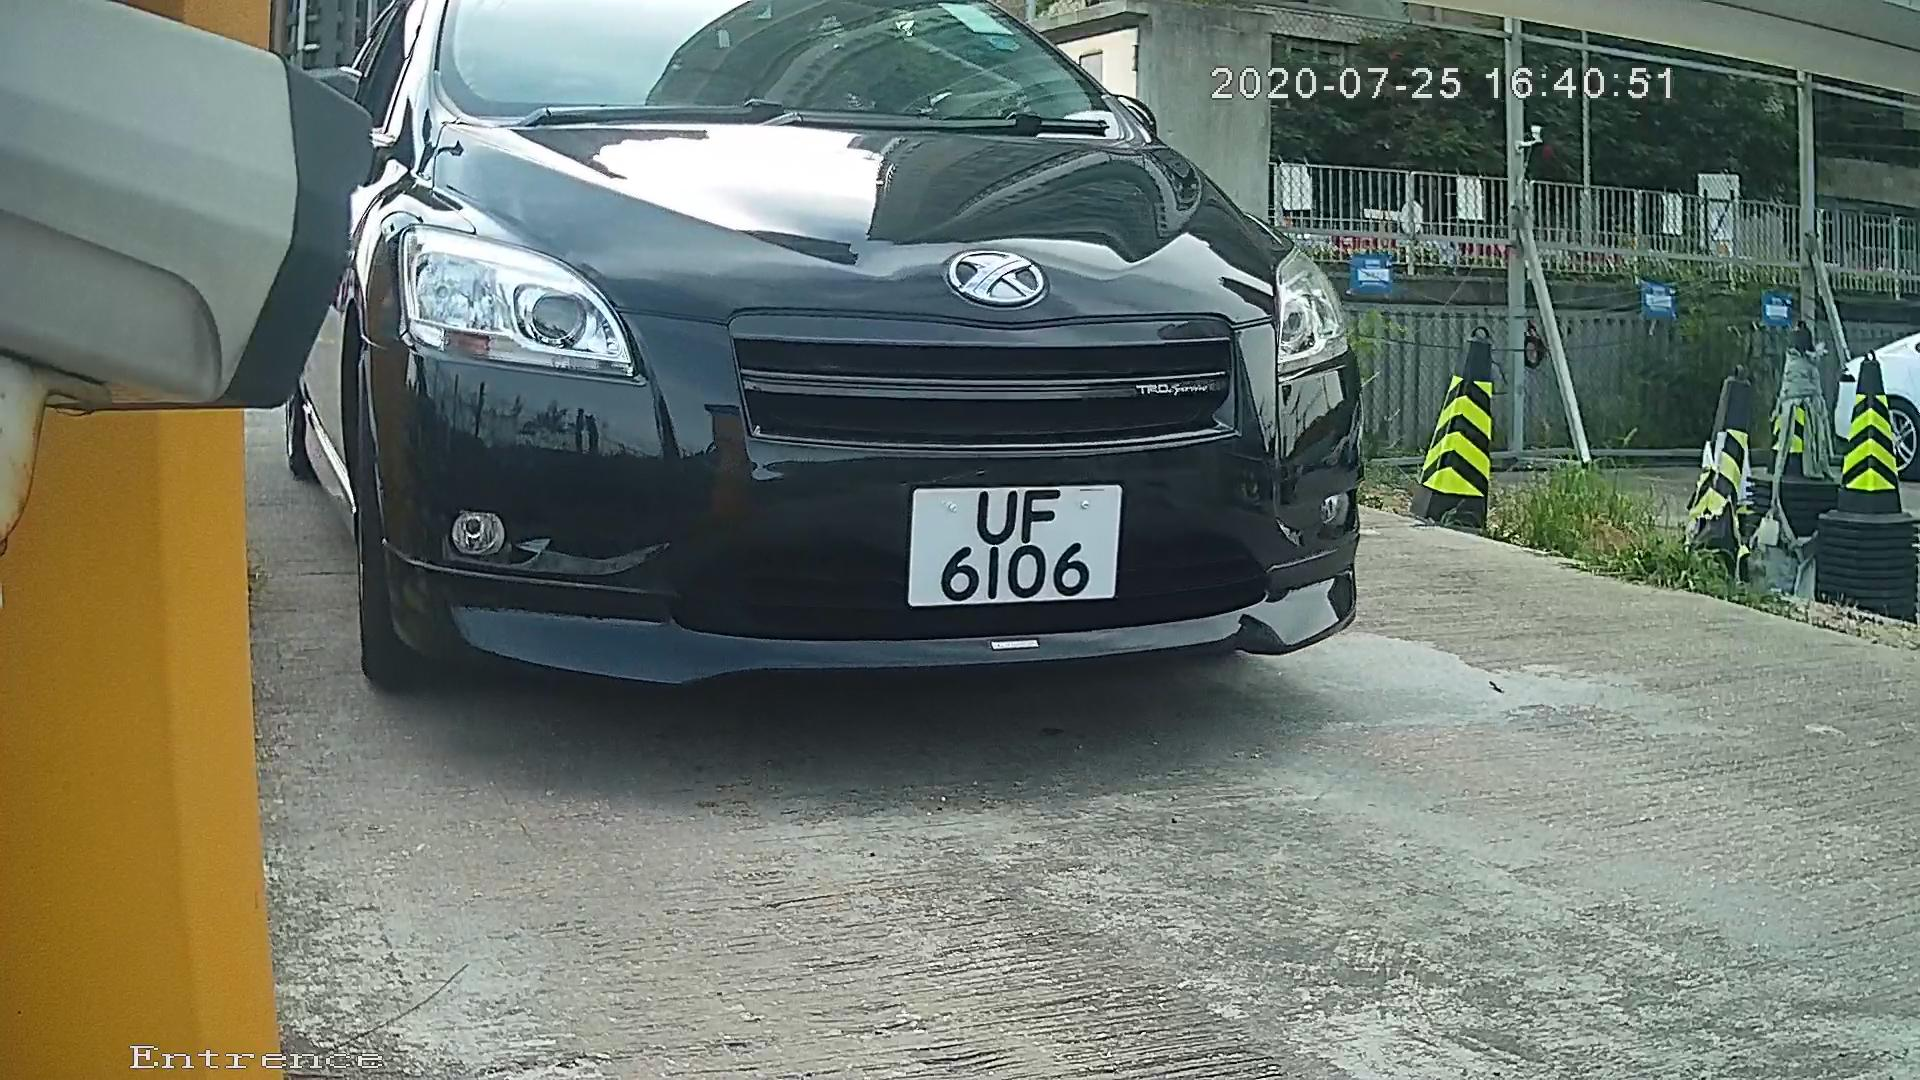License Plate: (875, 473, 1149, 622)
